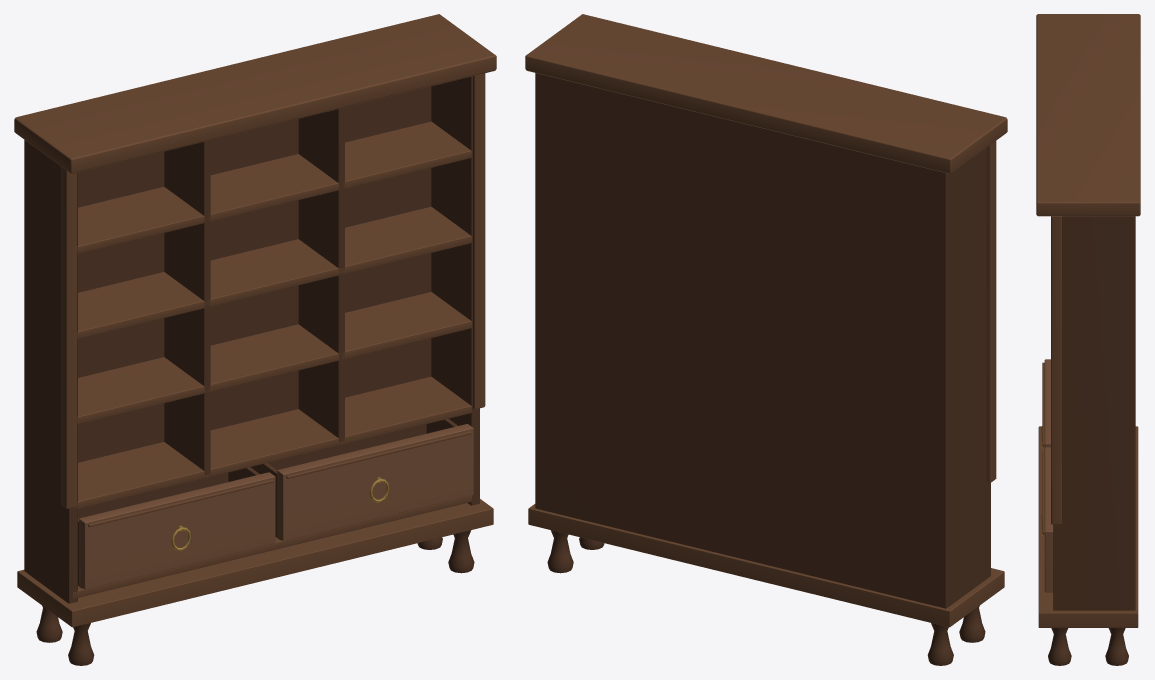
File: rpg-mansion-letter-pigeonhole-01.glb
3 views of the same model, side by side, from view 1: azimuth 30°, elevation 25°; view 2: azimuth 150°, elevation 25°; view 3: azimuth 270°, elevation 25° (orthographic). The views are drawn at different scales.
Parts seen in each view (by area): view 1: rpg-mansion-letter-pigeonhole-01; view 2: rpg-mansion-letter-pigeonhole-01; view 3: rpg-mansion-letter-pigeonhole-01.
Part boxes in pixels (x1,y1,x2,y2): rpg-mansion-letter-pigeonhole-01: [14, 14, 496, 665]; rpg-mansion-letter-pigeonhole-01: [525, 14, 1007, 665]; rpg-mansion-letter-pigeonhole-01: [1036, 14, 1140, 665].
Bounding box in the file's own units: 1.2 × 1.39 × 0.28.
